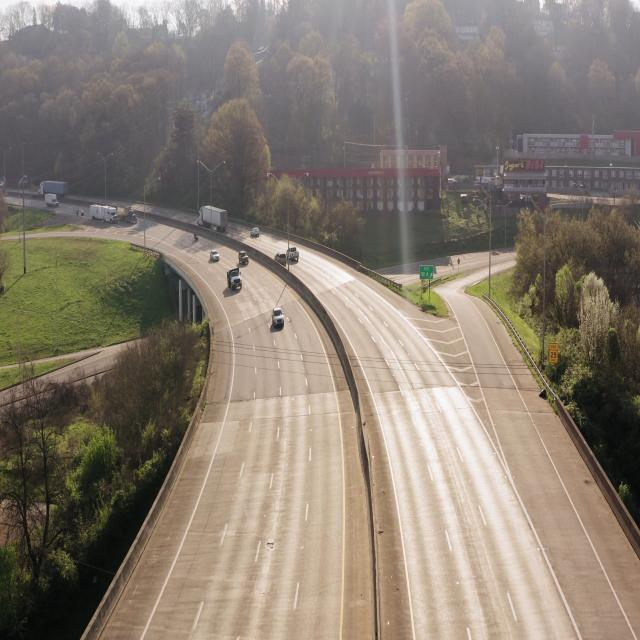Car: (270, 304, 286, 333), (227, 269, 244, 291)
